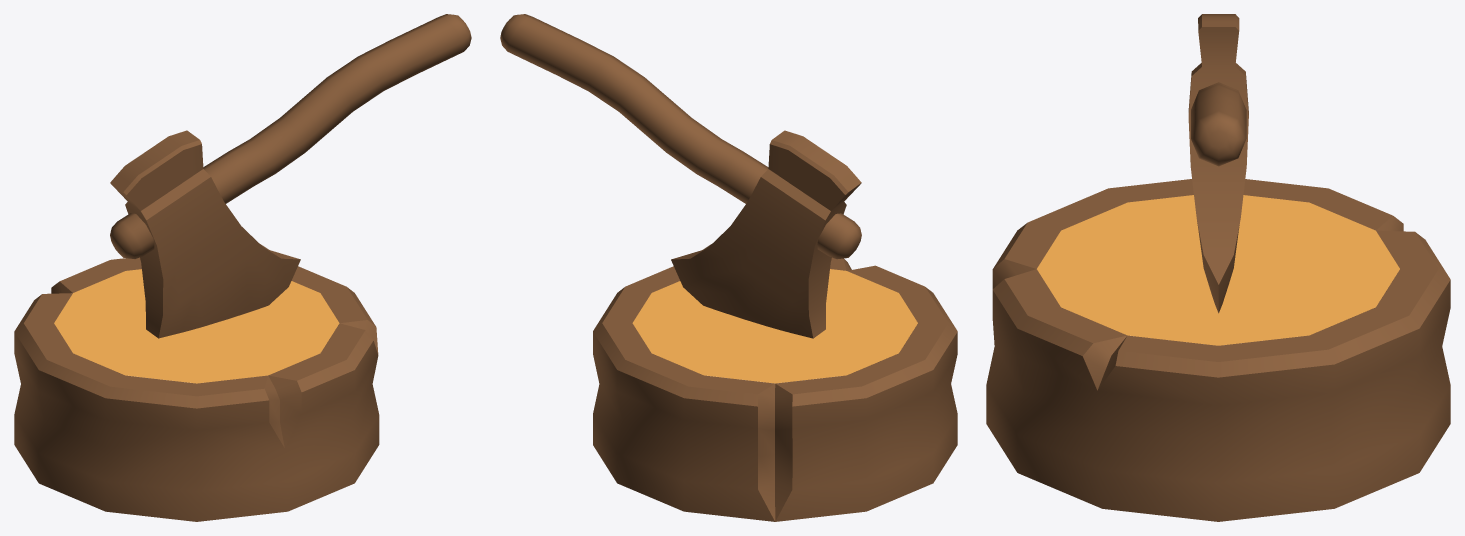
Rendered from logAxe-compressed.glb.
3 renders of one model, left to right at view 1: azimuth 30°, elevation 25°; view 2: azimuth 150°, elevation 25°; view 3: azimuth 270°, elevation 25°, orthographic. The views are drawn at different scales.
Visible parts, largest first — view 1: logAxe; view 2: logAxe; view 3: logAxe.
Part boxes in pixels (x1,y1,x2,y2): logAxe: (14,14,471,521); logAxe: (500,14,957,521); logAxe: (986,14,1450,521).
Size of the model in its own units: 1.16 by 0.95 by 0.8538.
